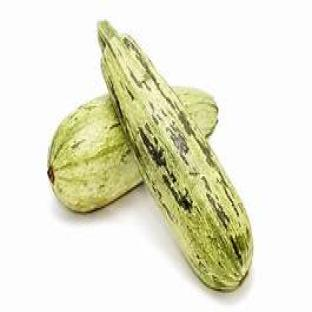Zucchini: (98, 22, 253, 290), (49, 96, 141, 211)
